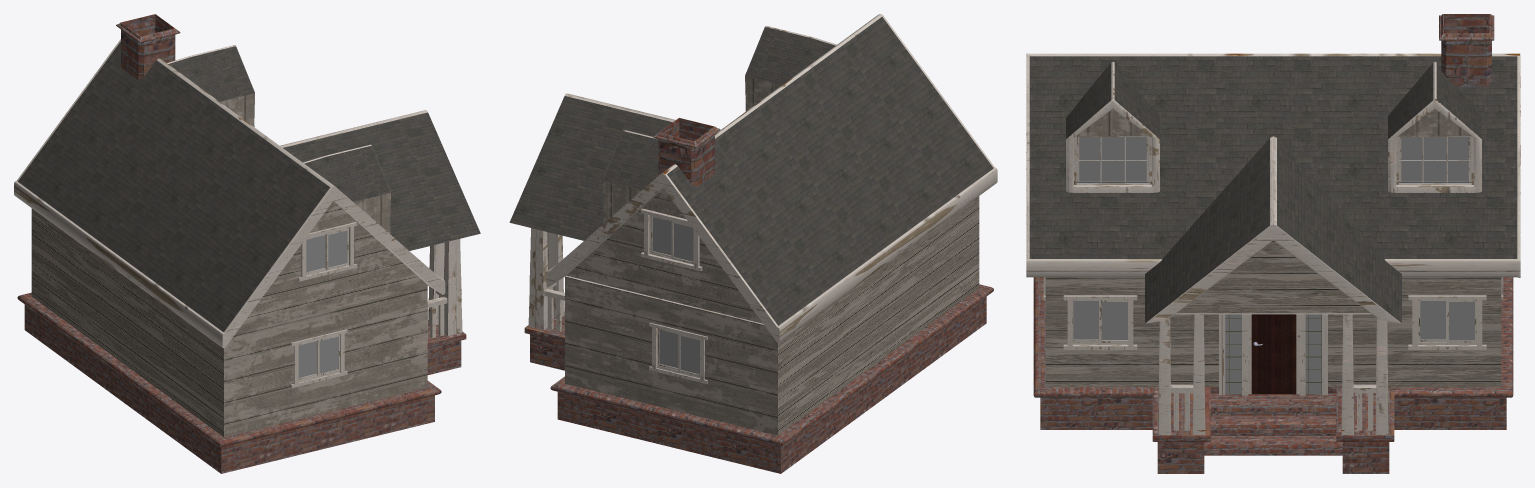
The model's file is house_1.glb.
3 renders of one model, left to right at view 1: azimuth 30°, elevation 25°; view 2: azimuth 150°, elevation 25°; view 3: azimuth 270°, elevation 25°, orthographic. The views are drawn at different scales.
Parts seen in each view (by area): view 1: House; view 2: House; view 3: House.
Part boxes in pixels (x1,y1,x2,y2): House: (14,14,480,473); House: (509,14,997,473); House: (1026,14,1520,473).
Size of the model in its own units: 16.66 by 15.02 by 19.51.
17 materials, 12 textured.
